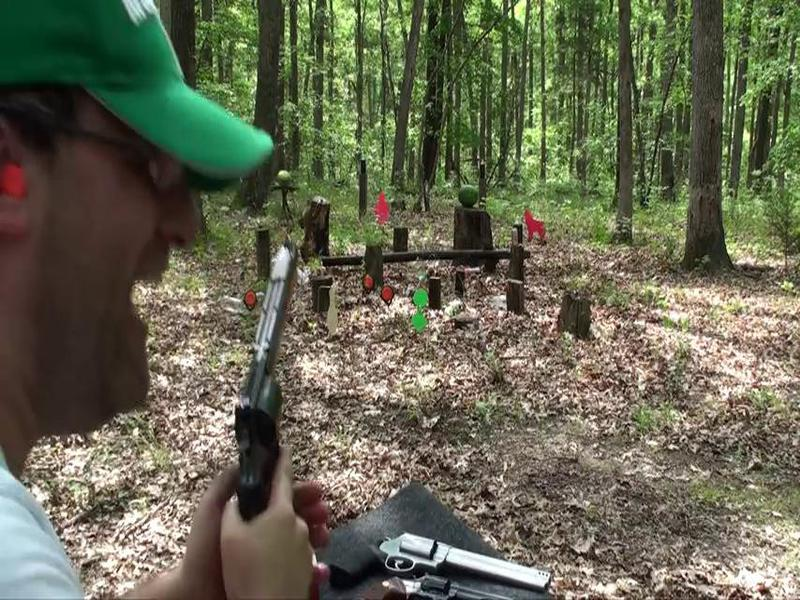Revolver: (211, 231, 330, 553)
